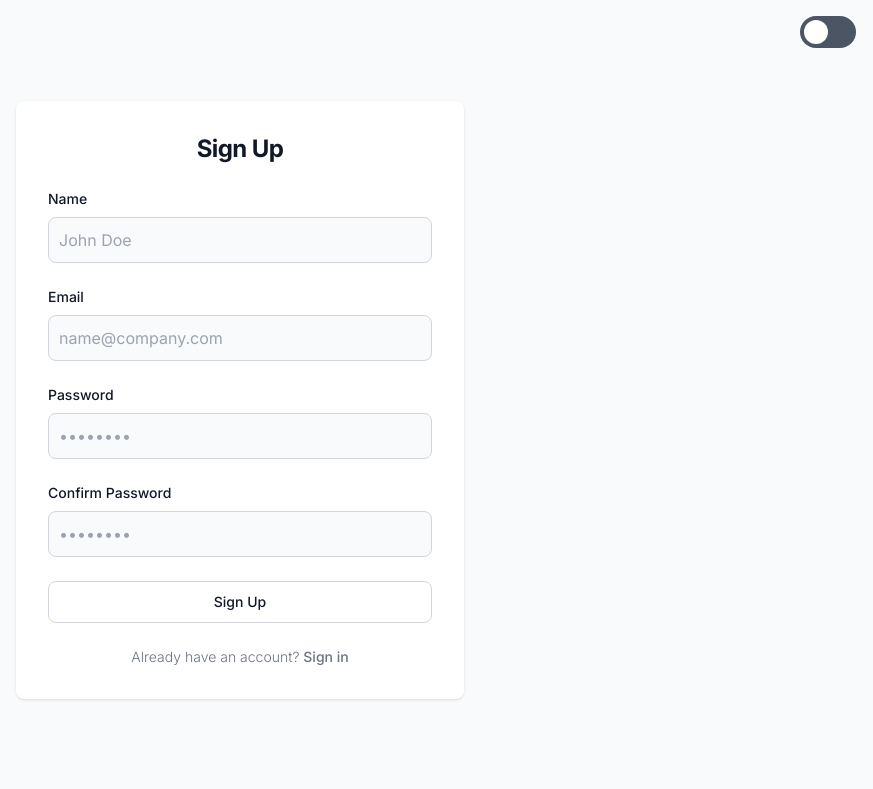
Test: Sign Up › should show error for missing name
Step 1. Type "nikhildmagar@gmail.com" into the field named "email" → (240, 338), box [48,315,432,361]
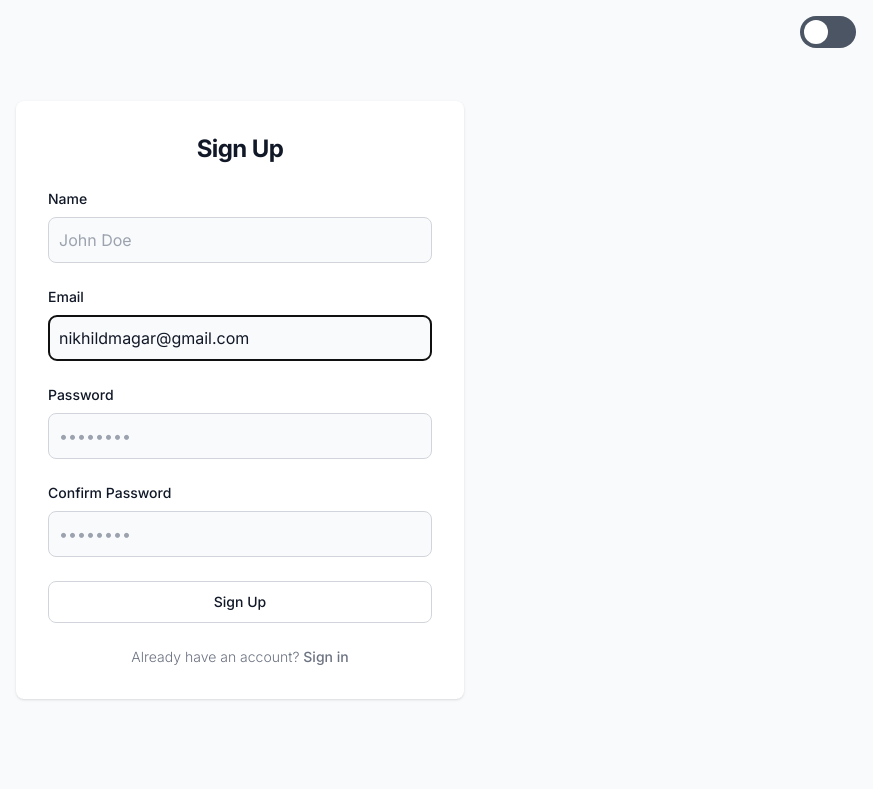
Step 2. Type "Password123" into the password field named "password" → (240, 436), box [48,413,432,459]
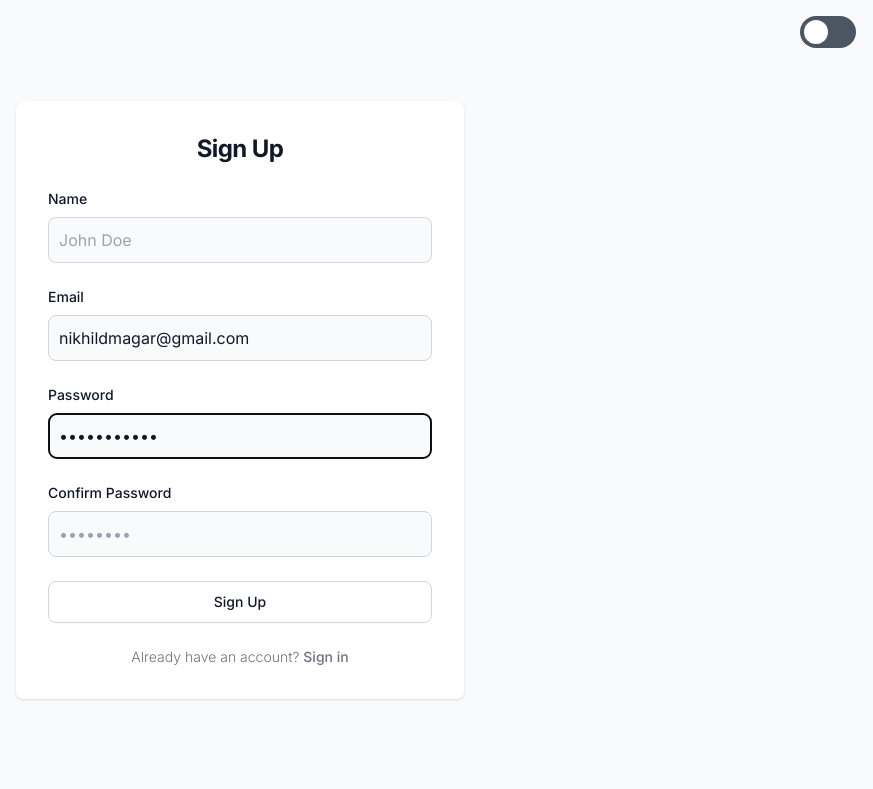
Step 3. Type "Password123" into the password field named "confirm-password" → (240, 534), box [48,511,432,557]
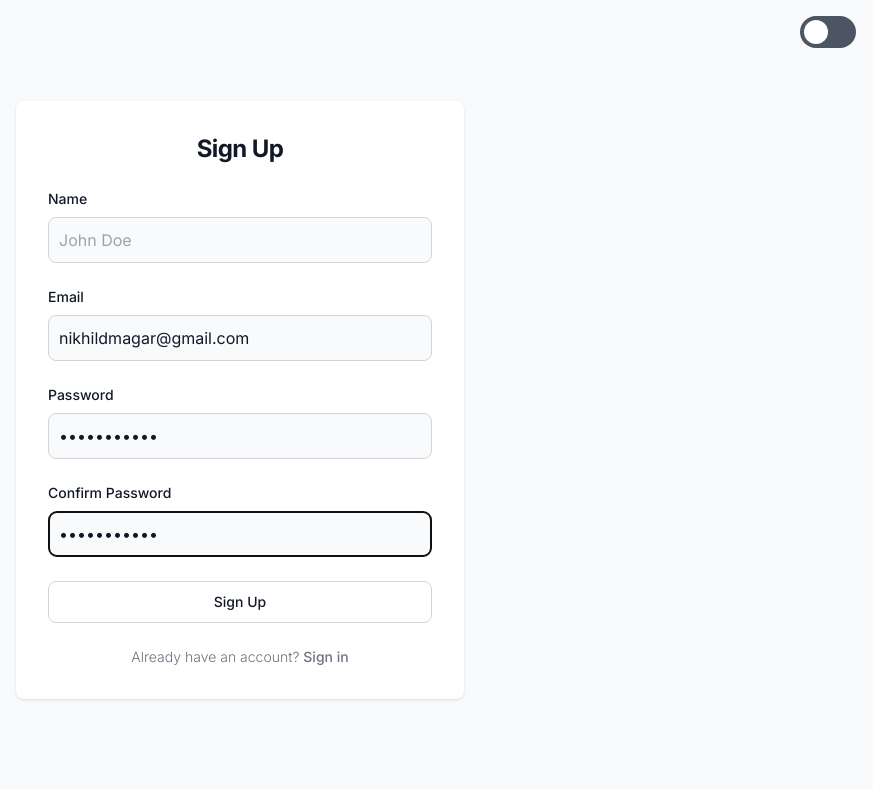
Step 4. Click the submit button → (240, 602), box [48,581,432,623]
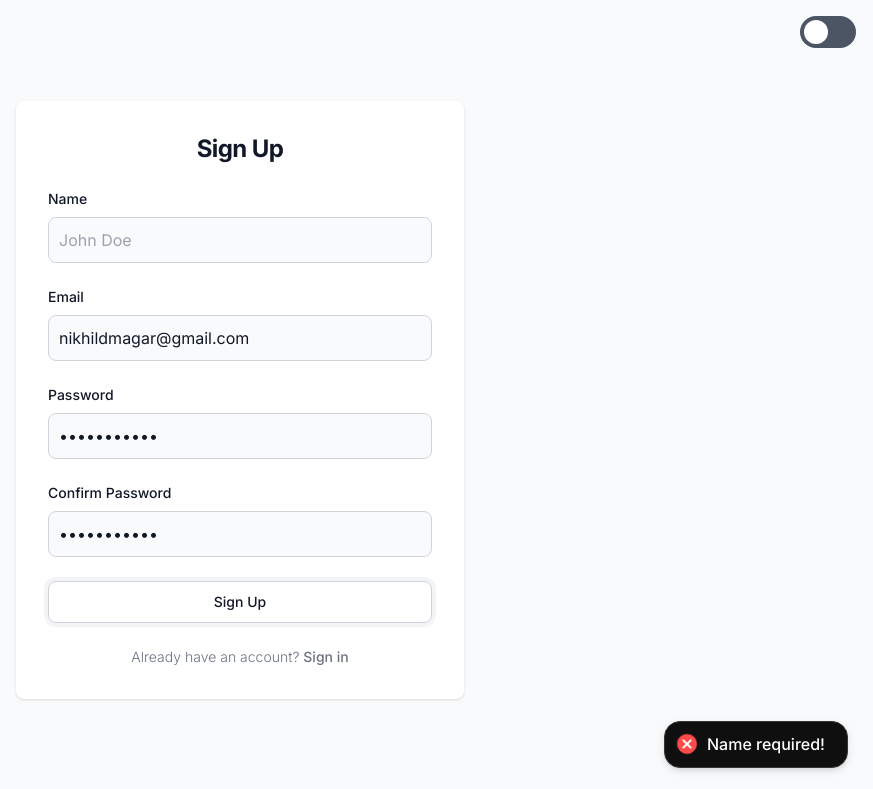
expect the text "Name required!" is shown: met, box [707,734,825,755]
